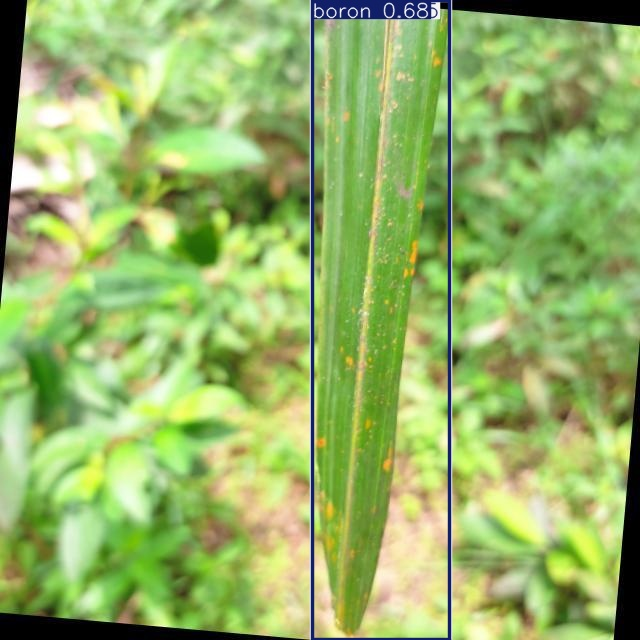Kalium: (312, 1, 451, 640)
nitrogen: (312, 0, 450, 640)
